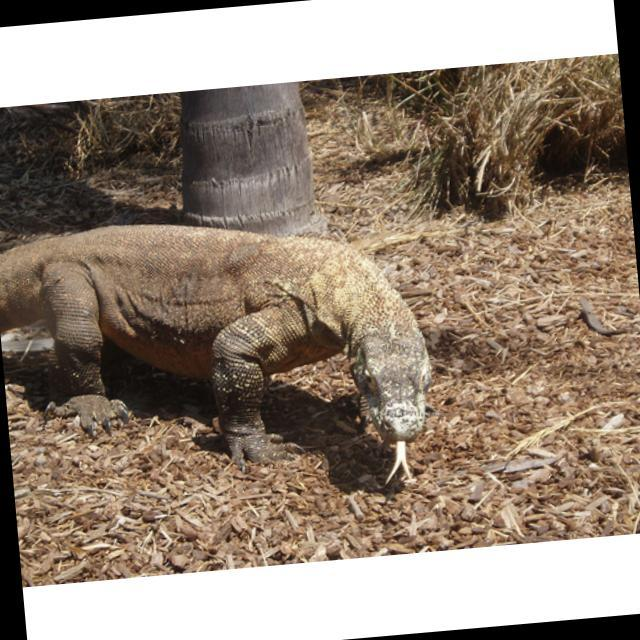KomodoDragon: (0, 195, 442, 516)
